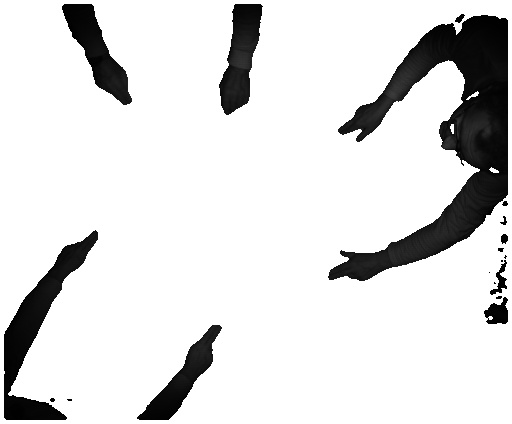fist: (216, 74, 255, 119)
hand: (55, 224, 103, 276), (185, 320, 223, 378), (336, 101, 386, 143), (96, 62, 135, 111), (328, 251, 380, 287)
